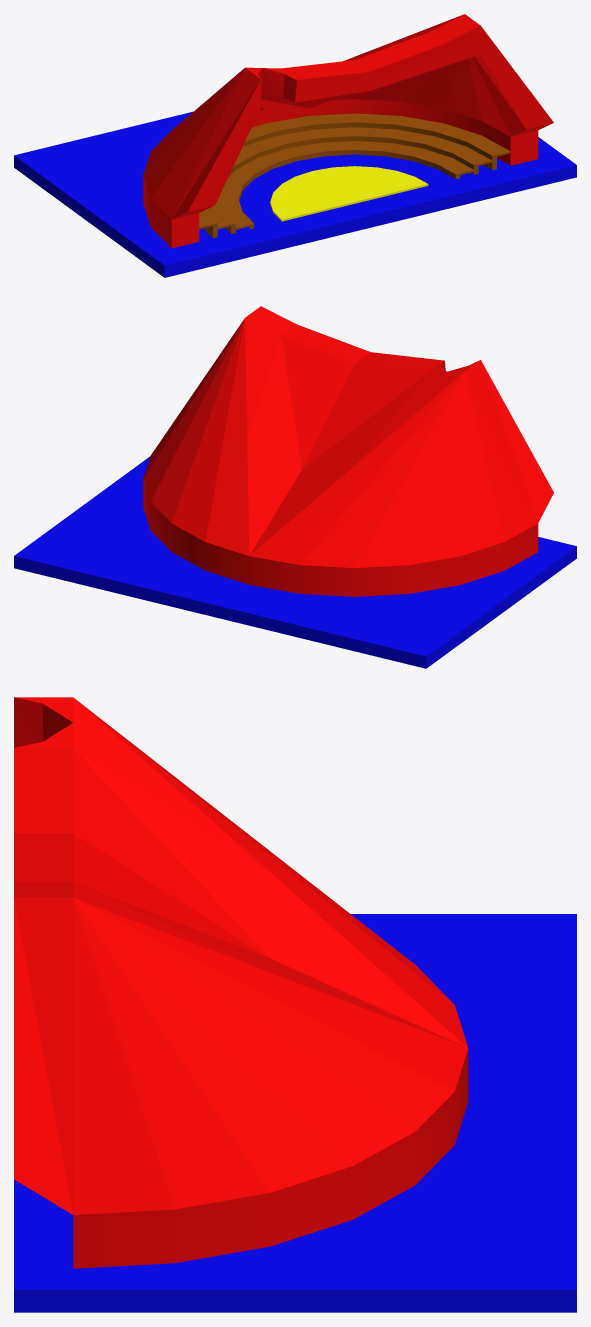
Rendered from chapiteau.dae.
The picture shows the model from 3 angles, top to bottom: view 1: azimuth 30°, elevation 25°; view 2: azimuth 150°, elevation 25°; view 3: azimuth 270°, elevation 25°; orthographic projection. The views are drawn at different scales.
Visible parts, largest first — view 1: Chapiteau, Sol, Gradin, Sable; view 2: Chapiteau, Sol; view 3: Chapiteau, Sol.
Boxes of the visible parts, box(x1,y1,x2,y2) form: Chapiteau: box(143, 14, 553, 248); Sol: box(14, 111, 576, 277); Gradin: box(199, 113, 510, 238); Sable: box(270, 166, 428, 221); Chapiteau: box(143, 306, 553, 596); Sol: box(14, 456, 576, 668); Chapiteau: box(14, 697, 468, 1268); Sol: box(14, 914, 576, 1312).
Bounding box in the file's own units: 1772 × 1122 × 720.
